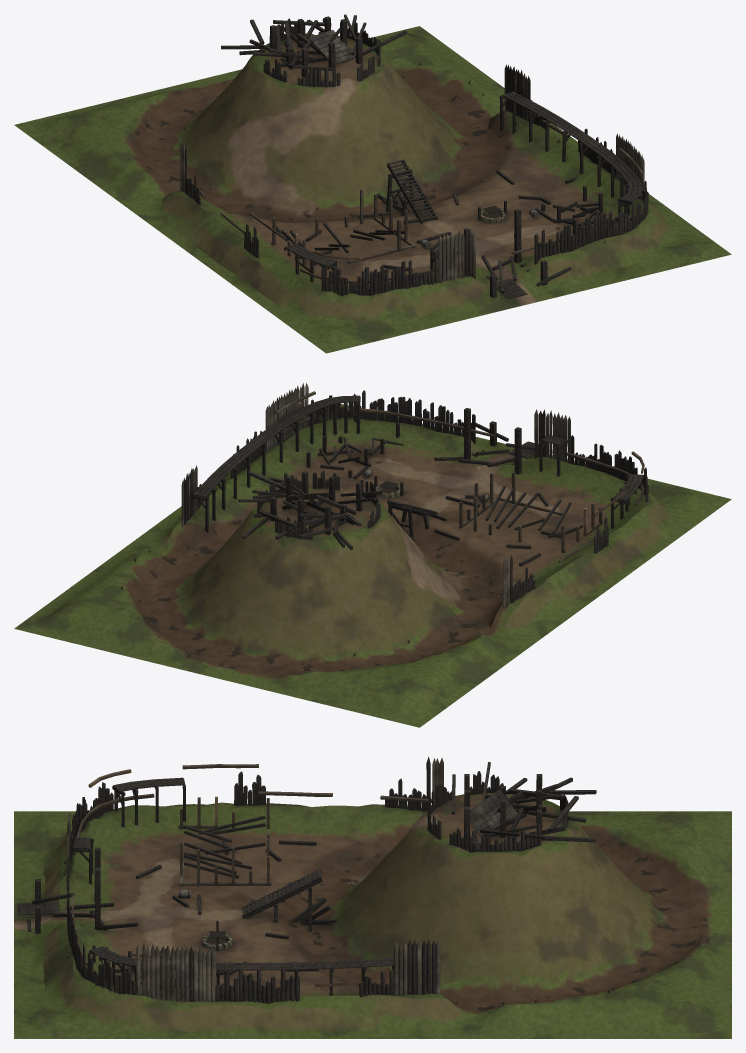
The model's file is motte_ruin.glb.
The picture shows the model from 3 angles, top to bottom: view 1: azimuth 30°, elevation 25°; view 2: azimuth 150°, elevation 25°; view 3: azimuth 270°, elevation 25°; orthographic projection. The views are drawn at different scales.
Visible parts, largest first — view 1: motte_ruin_LOD0; view 2: motte_ruin_LOD0; view 3: motte_ruin_LOD0.
Part boxes in pixels (x1,y1,x2,y2): motte_ruin_LOD0: (14,14,731,353); motte_ruin_LOD0: (14,383,731,727); motte_ruin_LOD0: (14,756,731,1038).
Size of what is drawn, in the model's own units: 36 by 10.31 by 48.
Materials: 1 (1 with a texture image).
